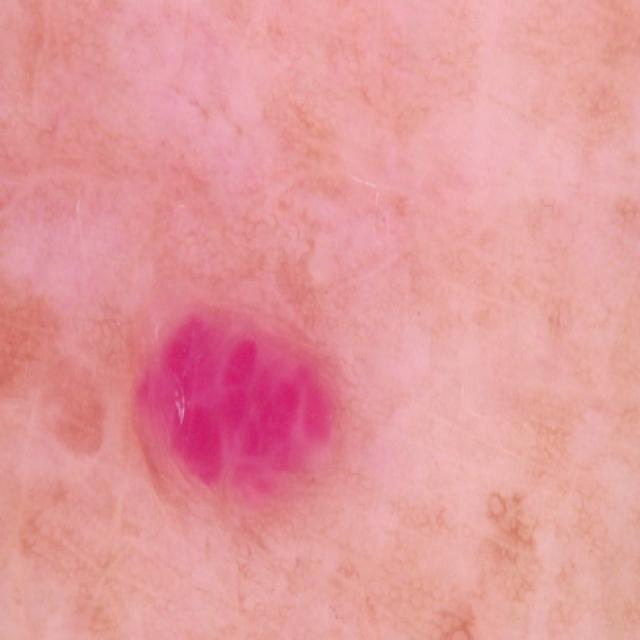Vascular Lesions: (136, 267, 358, 565)
